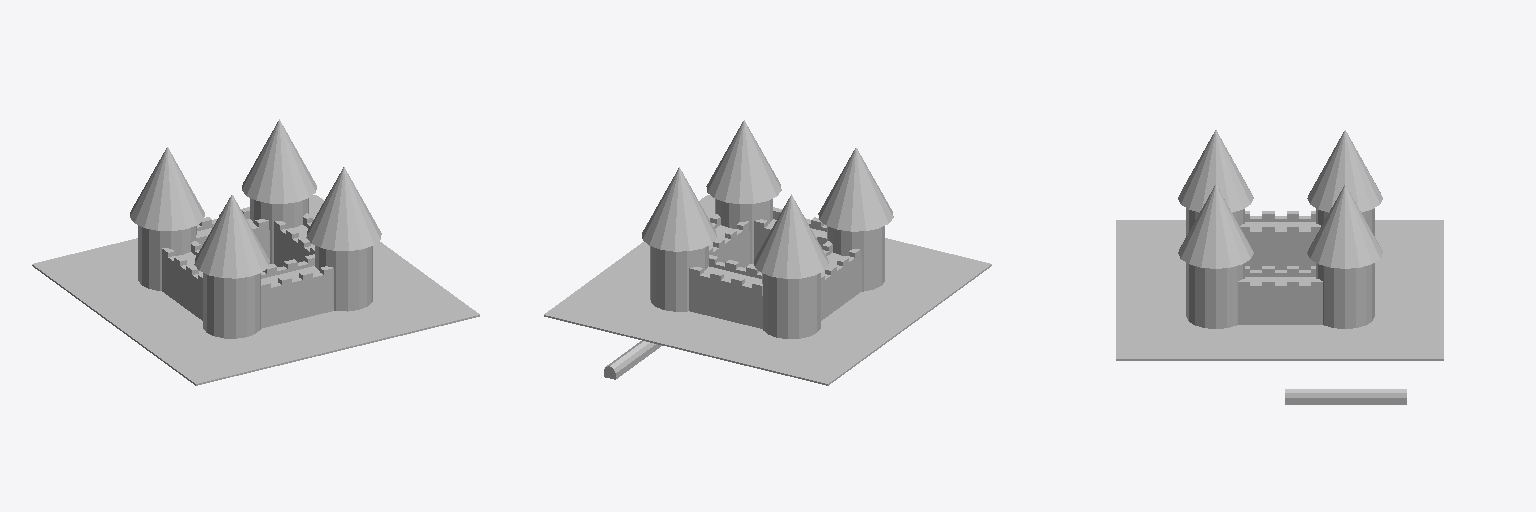
Rendered from castle.obj.
The picture shows the model from 3 angles: view 1: azimuth 30°, elevation 25°; view 2: azimuth 150°, elevation 25°; view 3: azimuth 270°, elevation 25°; orthographic projection.
Parts seen in each view (by area): view 1: pCone8; view 2: pCone8, pCube5; view 3: pCone8, pCube5.
Boxes of the visible parts, box(x1,y1,x2,y2) form: pCone8: box(32, 119, 479, 385); pCone8: box(544, 120, 991, 385); pCube5: box(604, 341, 661, 379); pCone8: box(1116, 130, 1443, 360); pCube5: box(1285, 389, 1406, 404).
Bounding box in the file's own units: 8.64 × 5.77 × 8.64.